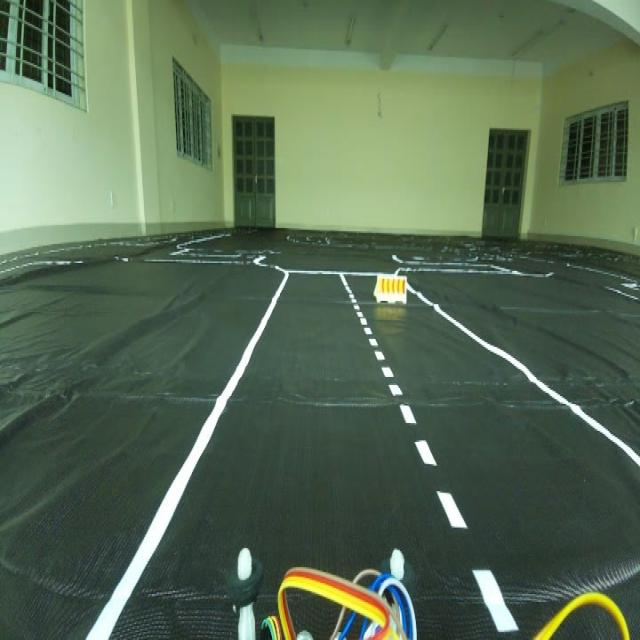roadblock: (369, 262, 411, 311)
